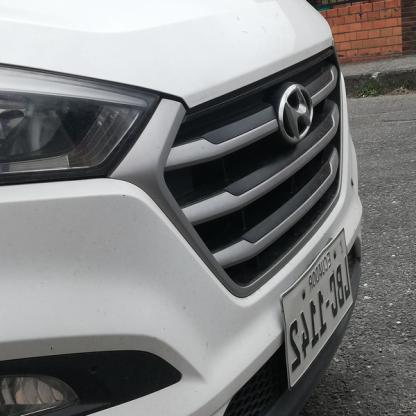Placa: (272, 230, 360, 395)
